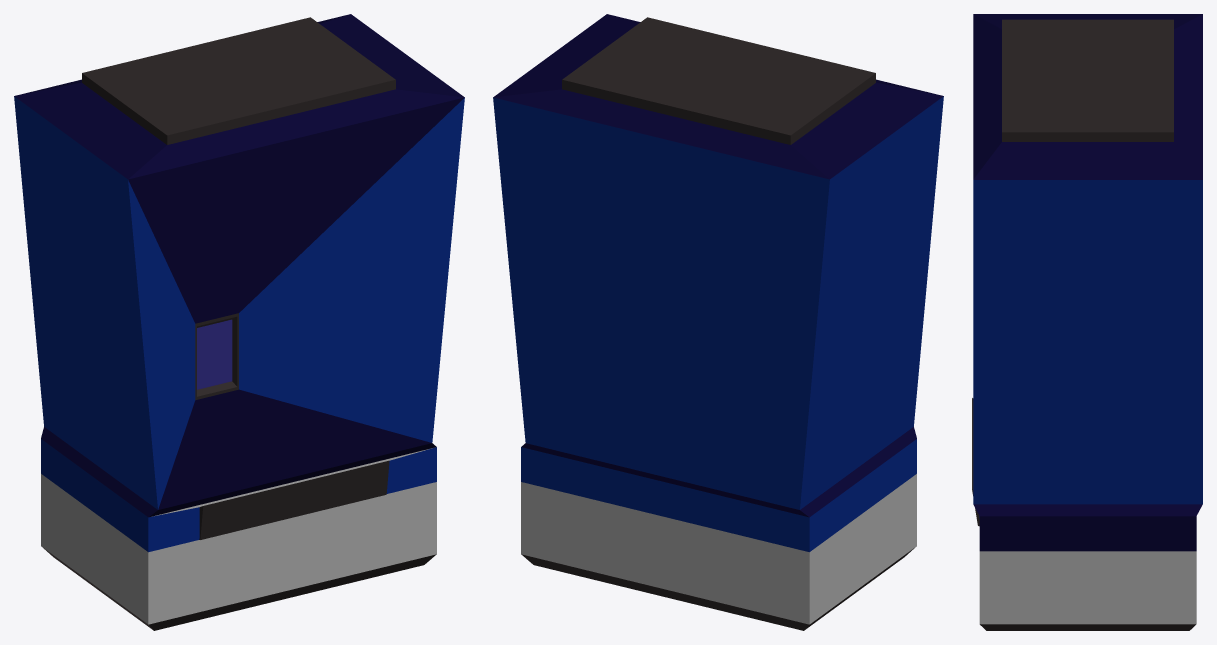
Rendered from Blue_VendingMachine.fbx.
3 views of the same model, side by side, from view 1: azimuth 30°, elevation 25°; view 2: azimuth 150°, elevation 25°; view 3: azimuth 270°, elevation 25° (orthographic).
Parts seen in each view (by area): view 1: pCube1; view 2: pCube1; view 3: pCube1.
Boxes of the visible parts, left/top/right/bottom form: pCube1: left=14, top=14, right=464, bottom=630; pCube1: left=493, top=14, right=943, bottom=630; pCube1: left=972, top=14, right=1202, bottom=630.
Size of the model in its own units: 14.07 by 19.35 by 8.29.
